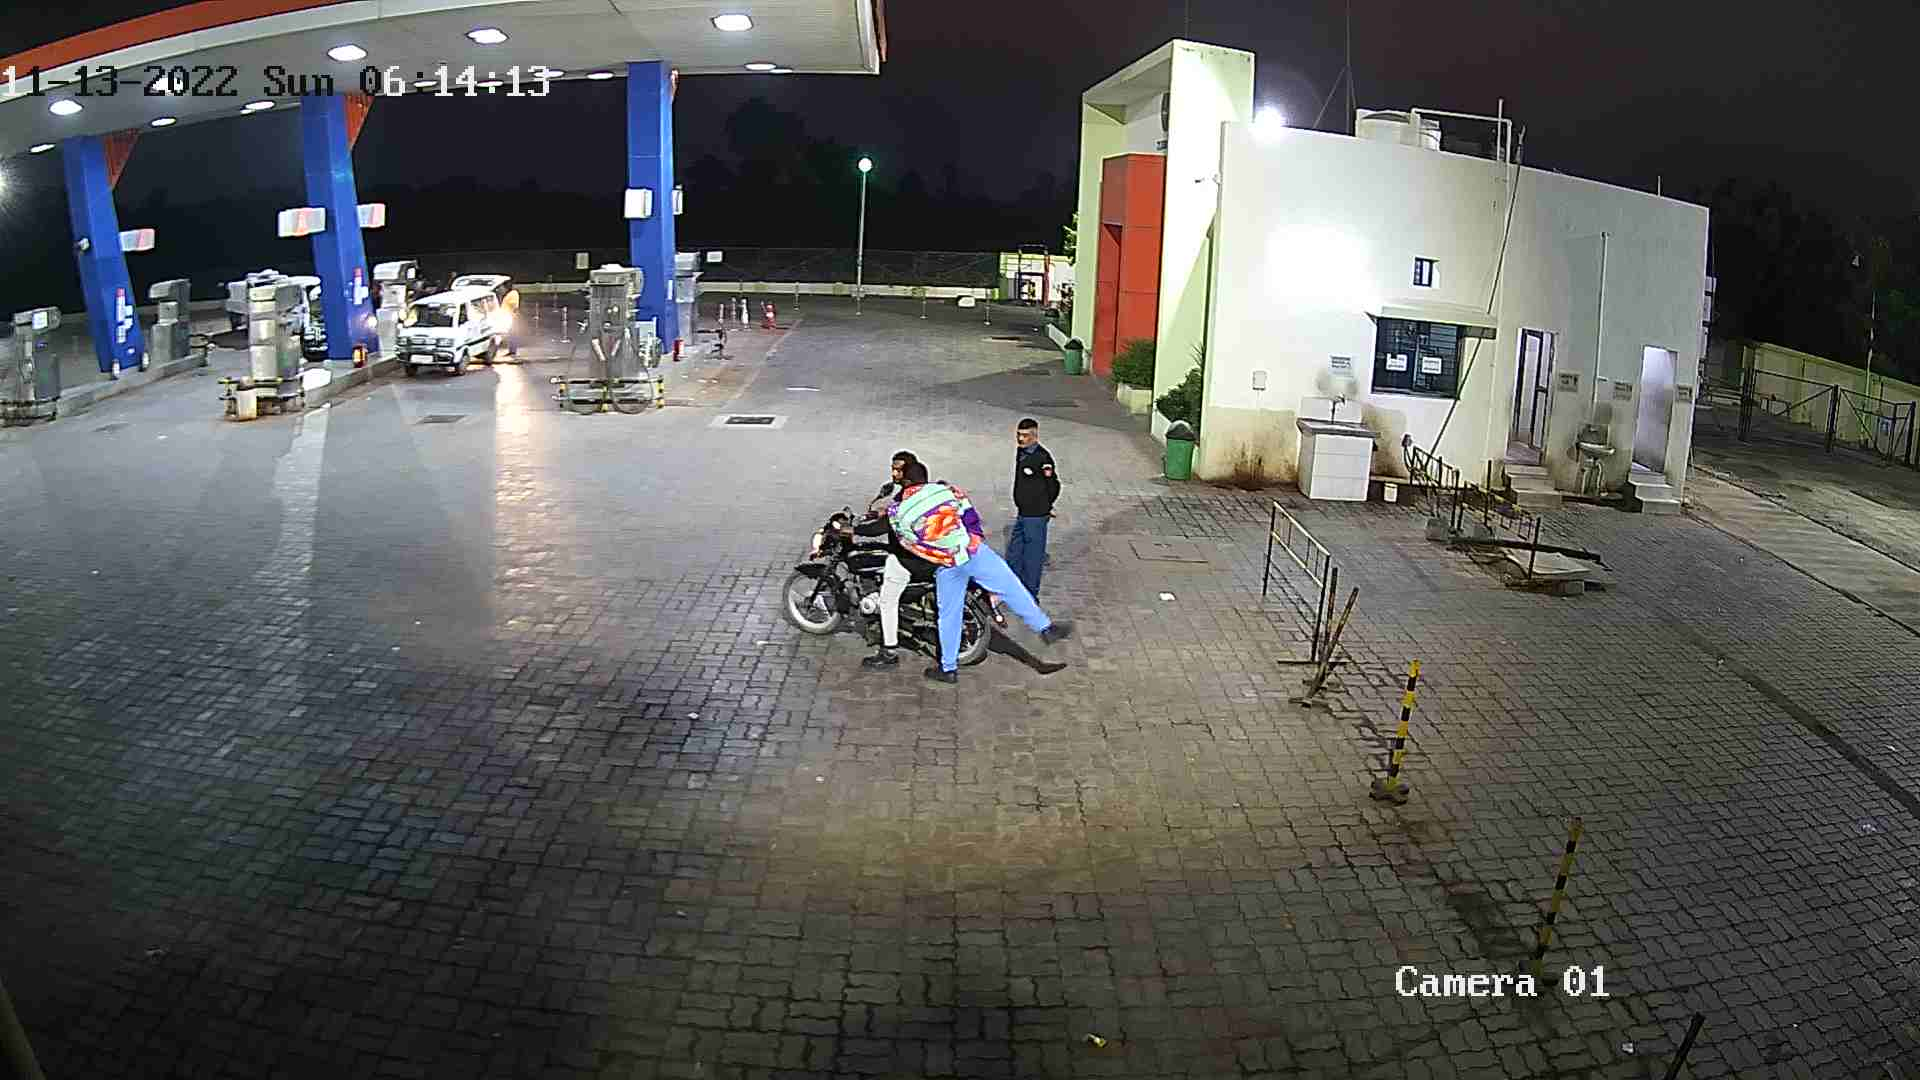Bike: (775, 446, 1076, 686)
Car: (386, 266, 522, 380), (446, 272, 524, 351), (215, 264, 278, 338), (291, 278, 339, 365)
